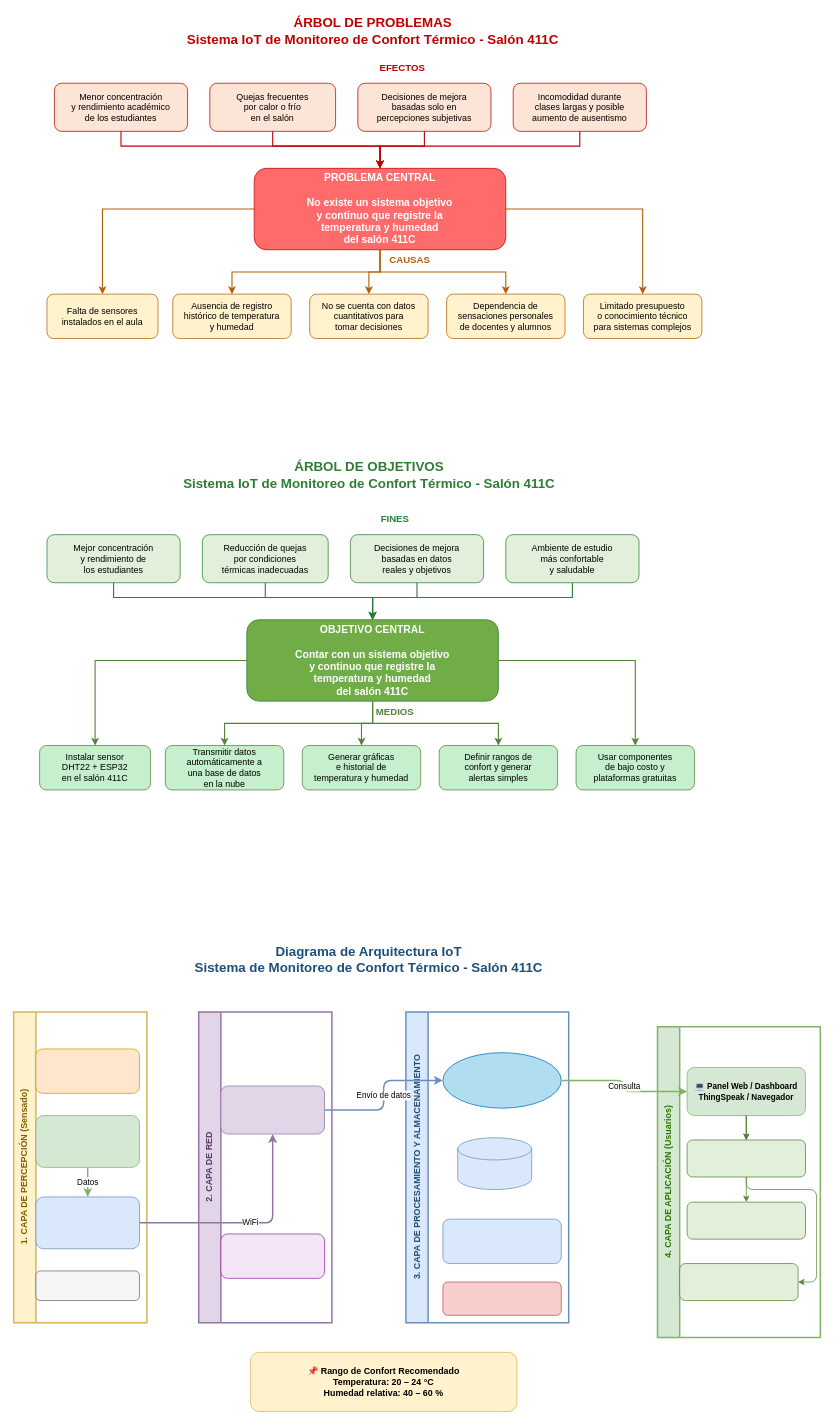
This 835x1425 diagram has some shape labels left out. The centre of each missing label's shape, as x and y in pixels:
"ESP32 Microcontrolador + WiFi" belongs at [87,1222].
"HTTP / MQTT Cada 5-10 min" belongs at [272,1255].
"Sensor DHT22 🌡️ Temperatura + 💧 Humedad" belongs at [87,1141].
"☁️ ThingSpeak / Firebase Plataforma en la Nube" belongs at [501,1080].
"⚠️ Alertas de confort 20-24°C / 40-60% HR" belongs at [501,1298].
"⚡ Fuente 5V USB" belongs at [87,1285].
"🏫 Salón 411C" belongs at [87,1070].
"👔 Directivos / Coordinación" belongs at [745,1158].
"👩‍🏫 Docentes" belongs at [745,1220].
"📊 Gráficas automáticas Hora / día" belongs at [501,1241].
"📶 WiFi del Edificio" belongs at [272,1109].
"🔧 Personal de Mantenimiento" belongs at [738,1282].
"🗄️ Datos históricos" belongs at [494,1163].
